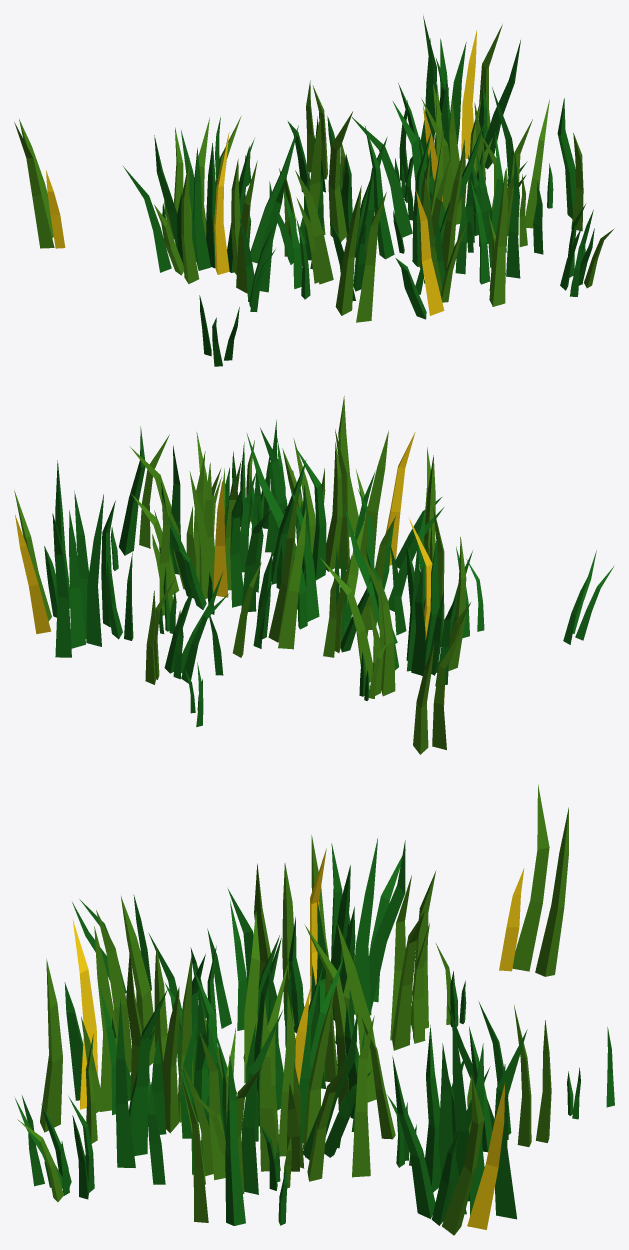
The model's file is grass.obj.
The picture shows the model from 3 angles, top to bottom: view 1: azimuth 30°, elevation 25°; view 2: azimuth 150°, elevation 25°; view 3: azimuth 270°, elevation 25°; orthographic projection. The views are drawn at different scales.
Visible parts, largest first — view 1: group1744197509, group9935422, group1743764551, group1617591992, group1681983211, group1005795212, group1495017289, group902223660, group1446851719, group443349435, group908757786, group1878667904 (+45 smaller); view 2: group774800547, group2095924070, group2057631278, group201890841, group1743764551, group1325005311, group945836210, group54891894, group1255547812, group612556706, group337239005, group1495017289 (+55 smaller); view 3: group1495017289, group1744197509, group54891894, group360301143, group1661925368, group774800547, group2043014497, group46854911, group1697339476, group252032136, group1255547812, group678362861 (+65 smaller).
Part boxes in pixels (x1,y1,x2,y2): group1744197509: [489, 169, 508, 306]; group9935422: [335, 185, 361, 315]; group1743764551: [328, 111, 352, 241]; group1617591992: [356, 192, 386, 322]; group1681983211: [416, 190, 444, 315]; group1005795212: [214, 132, 229, 274]; group1495017289: [14, 122, 54, 248]; group902223660: [352, 117, 412, 237]; group1446851719: [181, 158, 199, 283]; group443349435: [295, 170, 333, 284]; group908757786: [364, 125, 394, 259]; group1878667904: [193, 148, 210, 270]; group774800547: [52, 513, 71, 657]; group2095924070: [86, 494, 103, 646]; group2057631278: [278, 507, 306, 649]; group201890841: [69, 510, 85, 648]; group1743764551: [268, 484, 298, 642]; group1325005311: [295, 447, 326, 580]; group945836210: [326, 442, 342, 571]; group54891894: [119, 426, 145, 555]; group1255547812: [15, 515, 51, 634]; group612556706: [230, 484, 243, 607]; group337239005: [378, 575, 395, 696]; group1495017289: [432, 628, 462, 749]; group1495017289: [512, 784, 549, 971]; group1744197509: [40, 958, 62, 1132]; group54891894: [225, 1055, 245, 1225]; group360301143: [535, 807, 568, 976]; group1661925368: [442, 1076, 484, 1235]; group774800547: [494, 1029, 527, 1219]; group2043014497: [392, 1056, 435, 1218]; group46854911: [352, 1015, 374, 1177]; group1697339476: [131, 989, 167, 1155]; group252032136: [241, 1009, 283, 1194]; group1255547812: [467, 1082, 505, 1229]; group678362861: [115, 998, 135, 1167].
Size of the model in its own units: 0.9109 by 0.295 by 0.7792.
